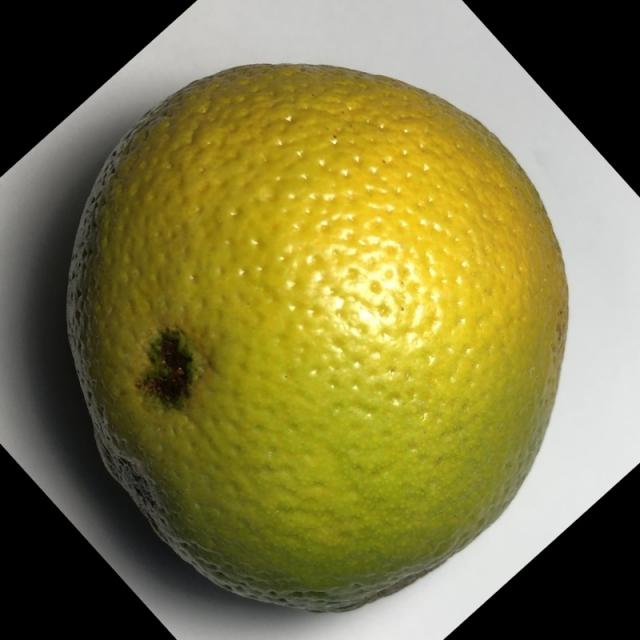canker: (44, 58, 576, 623)
